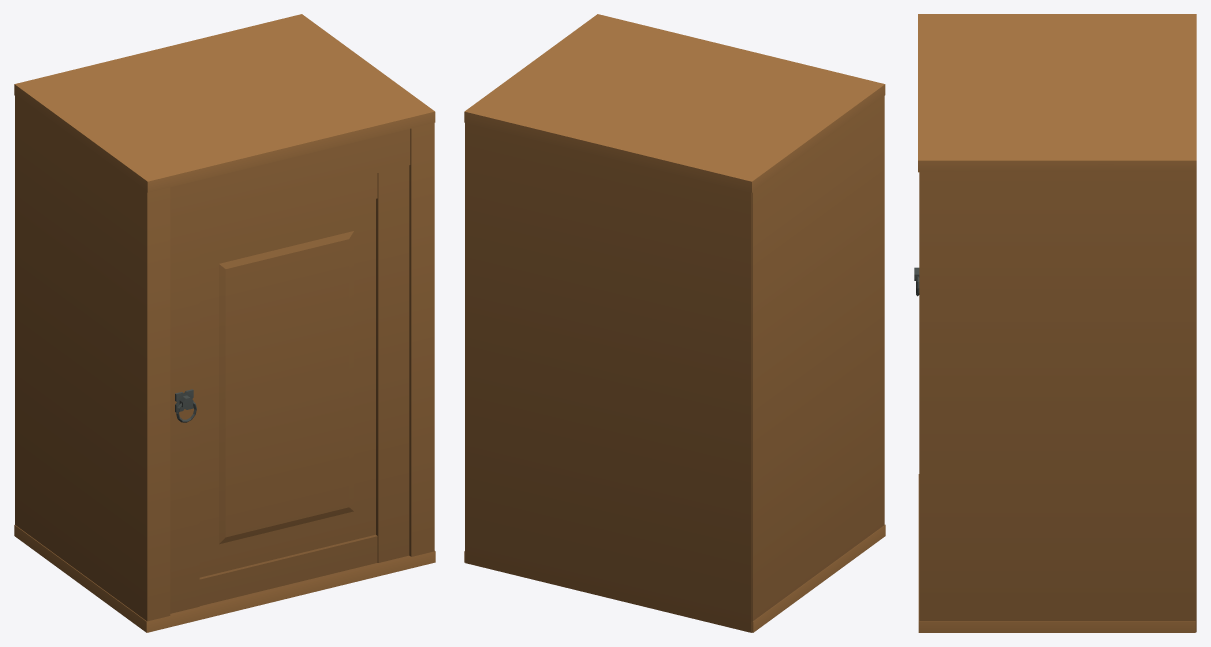
The model's file is Prop_Cupboard_02.obj.
3 renders of one model, left to right at view 1: azimuth 30°, elevation 25°; view 2: azimuth 150°, elevation 25°; view 3: azimuth 270°, elevation 25°, orthographic. The views are drawn at different scales.
Parts seen in each view (by area): view 1: Prop_Cupboard_02, Prop_Cupboard_Door_02; view 2: Prop_Cupboard_02; view 3: Prop_Cupboard_02.
Part boxes in pixels (x1,y1,x2,y2): Prop_Cupboard_02: [14, 14, 435, 632]; Prop_Cupboard_Door_02: [170, 165, 409, 613]; Prop_Cupboard_02: [464, 14, 885, 632]; Prop_Cupboard_02: [918, 14, 1196, 632].
Bounding box in the file's own units: 0.4019 × 0.6 × 0.3257.
Materials: 1 (1 with a texture image).
